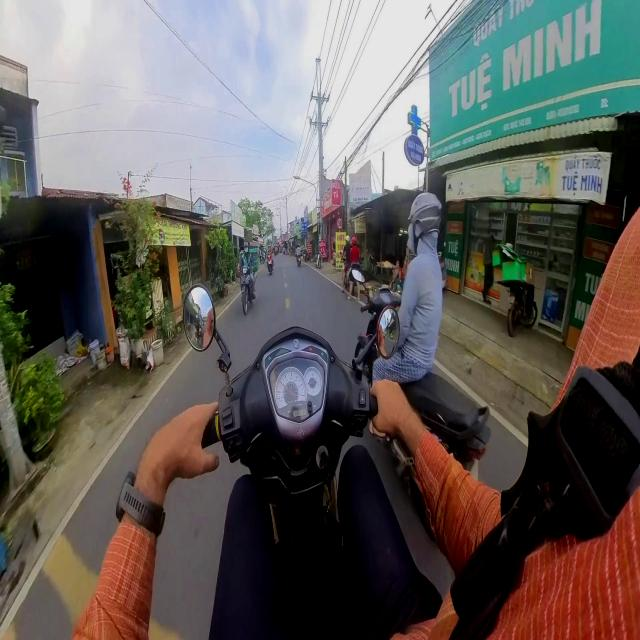motorcycle: (183, 286, 398, 638), (355, 288, 400, 385), (498, 281, 537, 337), (240, 267, 253, 314), (267, 252, 273, 275), (316, 253, 321, 269), (296, 255, 301, 266)
